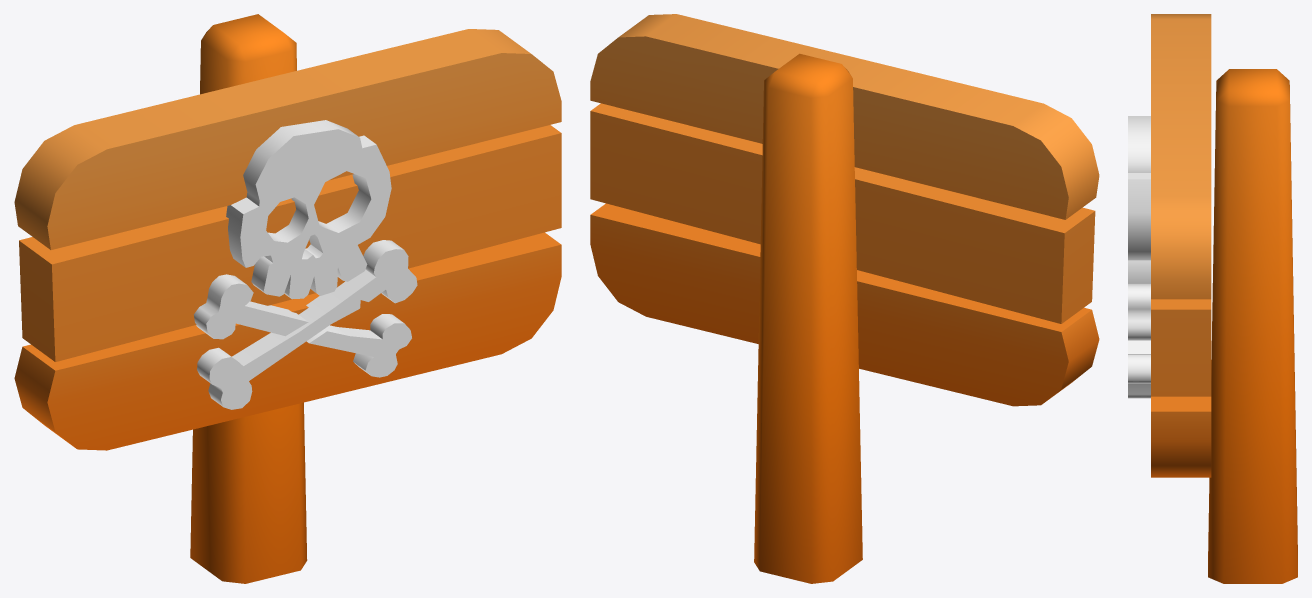
Rendered from Prop_Wooden_Sign_10.fbx.
3 views of the same model, side by side, from view 1: azimuth 30°, elevation 25°; view 2: azimuth 150°, elevation 25°; view 3: azimuth 270°, elevation 25° (orthographic). The views are drawn at different scales.
Visible parts, largest first — view 1: Prop_Wooden_Sign_10; view 2: Prop_Wooden_Sign_10; view 3: Prop_Wooden_Sign_10.
Part boxes in pixels (<box>): Prop_Wooden_Sign_10: <box>14,14,561,583</box>; Prop_Wooden_Sign_10: <box>590,14,1099,583</box>; Prop_Wooden_Sign_10: <box>1128,14,1297,583</box>.
Bounding box in the file's own units: 90.11 × 88.8 × 28.16.
